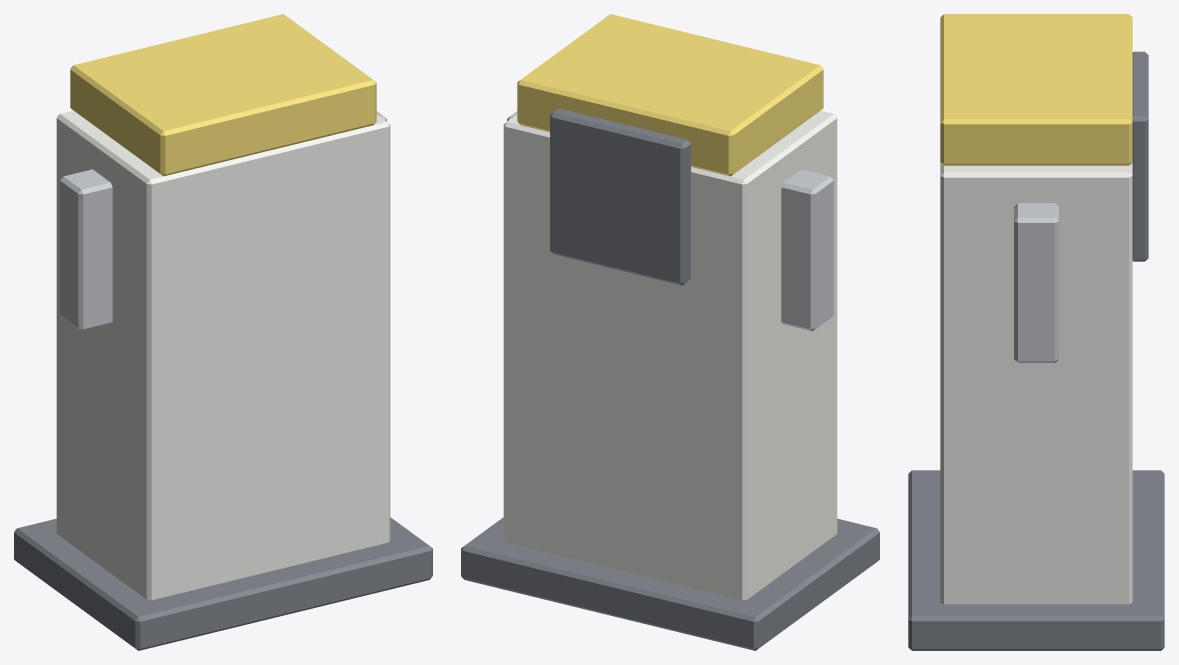
Rendered from 构筑_加油机_01.fbx.
3 views of the same model, side by side, from view 1: azimuth 30°, elevation 25°; view 2: azimuth 150°, elevation 25°; view 3: azimuth 270°, elevation 25° (orthographic). The views are drawn at different scales.
Visible parts, largest first — view 1: 机身.005, 顶灯.006, 底座.010, 油枪; view 2: 机身.005, 顶灯.006, 底座.010, 显示屏.001, 油枪; view 3: 机身.005, 顶灯.006, 底座.010, 油枪, 显示屏.001.
Part boxes in pixels (box(x1,y1,x2,y2)): 机身.005: box(56, 110, 390, 600); 顶灯.006: box(70, 14, 376, 176); 底座.010: box(14, 517, 432, 650); 油枪: box(60, 111, 386, 331); 机身.005: box(503, 110, 837, 600); 顶灯.006: box(517, 14, 823, 176); 底座.010: box(461, 517, 879, 650); 显示屏.001: box(550, 108, 690, 285); 油枪: box(507, 111, 833, 331); 机身.005: box(940, 162, 1132, 604); 顶灯.006: box(940, 14, 1132, 165); 底座.010: box(908, 470, 1164, 650); 油枪: box(1014, 203, 1058, 362); 显示屏.001: box(1132, 51, 1148, 261).
Size of the model in its own units: 114 by 176 by 80.
